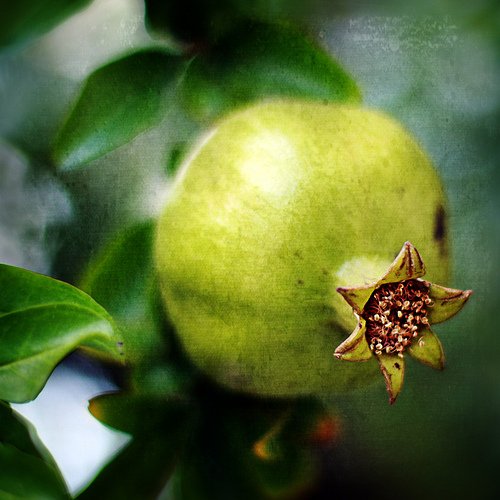pomogranate: (156, 96, 472, 405)
